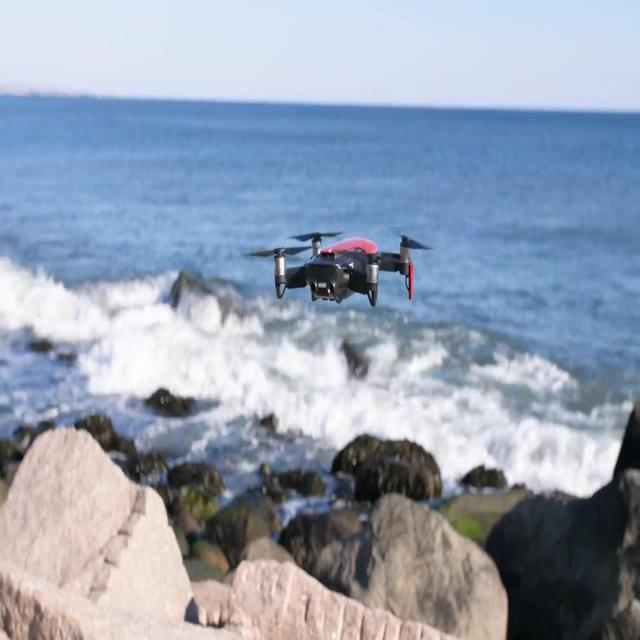UAV: (243, 230, 434, 308)
